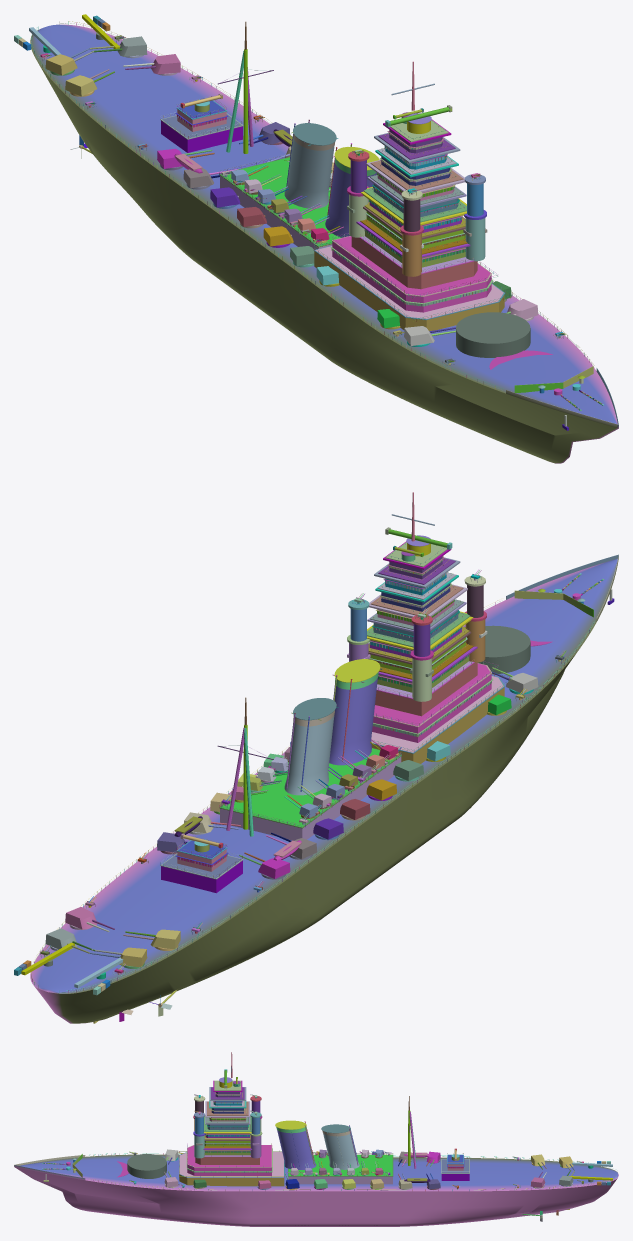
The picture shows the model from 3 angles, top to bottom: view 1: azimuth 30°, elevation 25°; view 2: azimuth 150°, elevation 25°; view 3: azimuth 270°, elevation 25°; orthographic projection. The views are drawn at different scales.
Parts seen in each view (by area): view 1: hull; view 2: hull; view 3: hull.
Part boxes in pixels (<box>): hull: <box>14,14,618,463</box>; hull: <box>14,492,618,1023</box>; hull: <box>14,1052,618,1226</box>.
Size of what is drawn, in the model's own units: 41.9 by 87.34 by 300.
